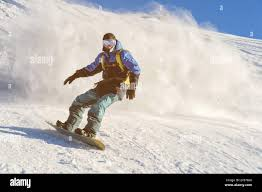snowboarder: (36, 25, 150, 157)
